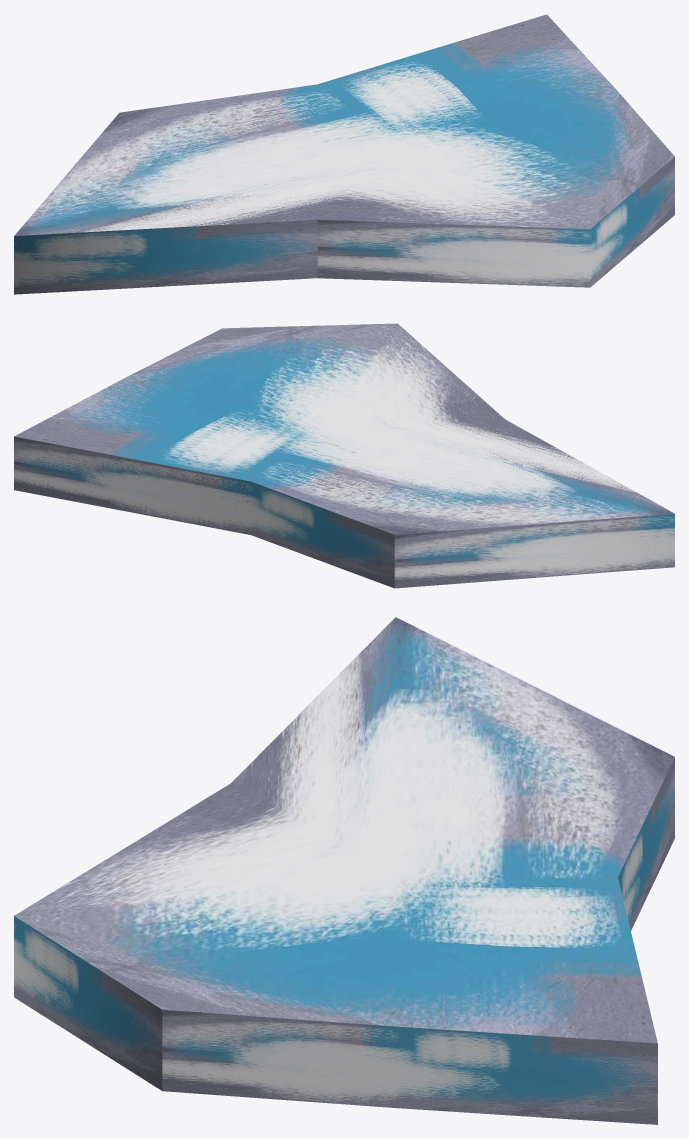
File: Collectible2.FBX
3 views of the same model, one above another, from view 1: azimuth 30°, elevation 25°; view 2: azimuth 150°, elevation 25°; view 3: azimuth 270°, elevation 25° (orthographic). The views are drawn at different scales.
Parts seen in each view (by area): view 1: Box005; view 2: Box005; view 3: Box005.
Part boxes in pixels (bbox=[...]): Box005: bbox=[14, 14, 674, 294]; Box005: bbox=[14, 323, 674, 588]; Box005: bbox=[14, 617, 674, 1124].
Size of the model in its own units: 5.53 by 3.62 by 0.4933.
Materials: 1 (1 with a texture image).
